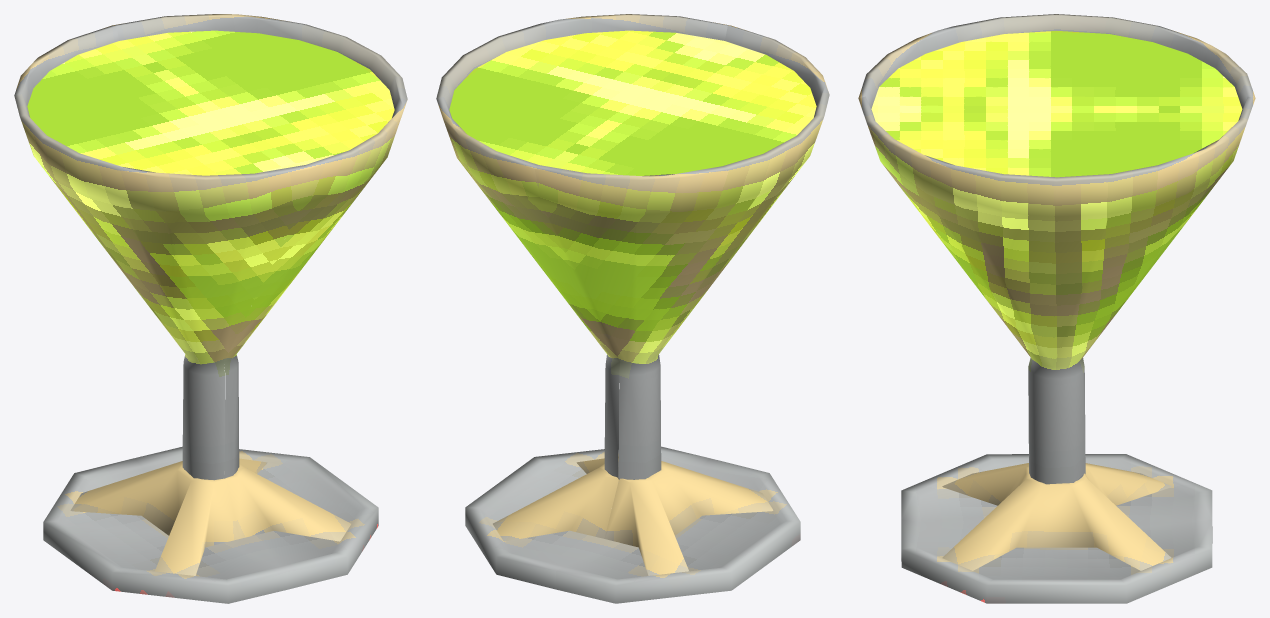
The model's file is bar_cocktails_6_a.glb.
The picture shows the model from 3 angles, left to right: view 1: azimuth 30°, elevation 25°; view 2: azimuth 150°, elevation 25°; view 3: azimuth 270°, elevation 25°; orthographic projection.
Parts seen in each view (by area): view 1: bar_cocktails_6; view 2: bar_cocktails_6; view 3: bar_cocktails_6.
Part boxes in pixels (x1,y1,x2,y2): bar_cocktails_6: (14, 14, 407, 603); bar_cocktails_6: (436, 14, 829, 603); bar_cocktails_6: (858, 14, 1255, 603).
Bounding box in the file's own units: 0.1141 × 0.1401 × 0.1141.
1 material, 1 textured.
